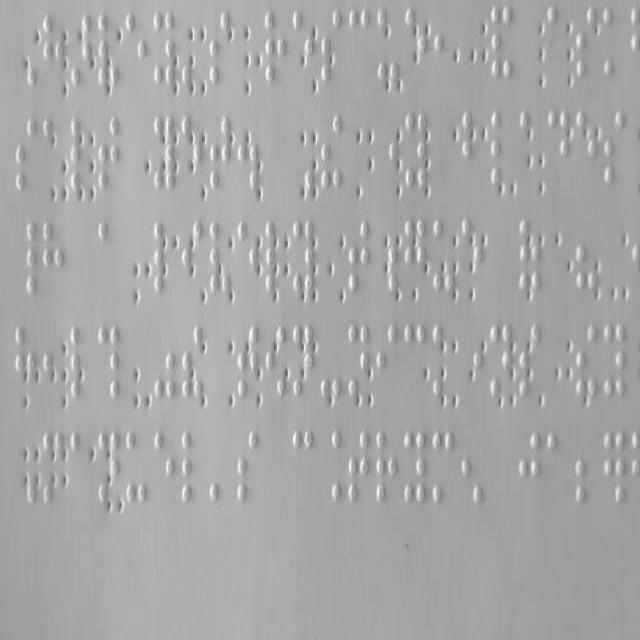braiile: (290, 426, 314, 508), (96, 114, 120, 194), (124, 426, 148, 506), (180, 426, 204, 506), (517, 431, 541, 511), (544, 431, 568, 511), (602, 108, 626, 186), (602, 323, 626, 401), (402, 430, 426, 508), (263, 11, 287, 87), (374, 428, 398, 504), (545, 4, 567, 86), (15, 114, 38, 192), (152, 428, 175, 506), (237, 430, 260, 508), (546, 106, 568, 186), (42, 220, 64, 300), (488, 322, 512, 394), (125, 12, 147, 90), (348, 6, 370, 84), (604, 6, 626, 84), (403, 112, 425, 190), (490, 108, 512, 186), (152, 11, 174, 87), (208, 116, 230, 192), (69, 431, 91, 507), (346, 431, 369, 502), (575, 8, 597, 82), (96, 218, 118, 292), (291, 218, 313, 292), (347, 218, 369, 292), (403, 323, 425, 397), (347, 324, 369, 396), (209, 11, 229, 87), (236, 220, 256, 296), (42, 14, 62, 88), (376, 323, 396, 397)
